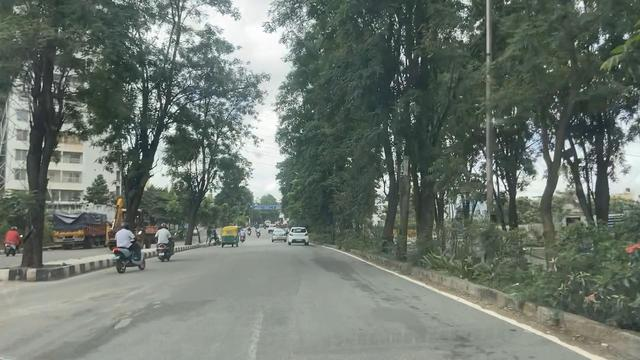LMV: (116, 225, 143, 268), (157, 221, 177, 256), (289, 228, 307, 245), (223, 227, 238, 247), (272, 227, 285, 241)
RoadDamages: (320, 259, 383, 299), (374, 304, 463, 325), (150, 295, 208, 319), (81, 287, 144, 302), (114, 309, 149, 332)
